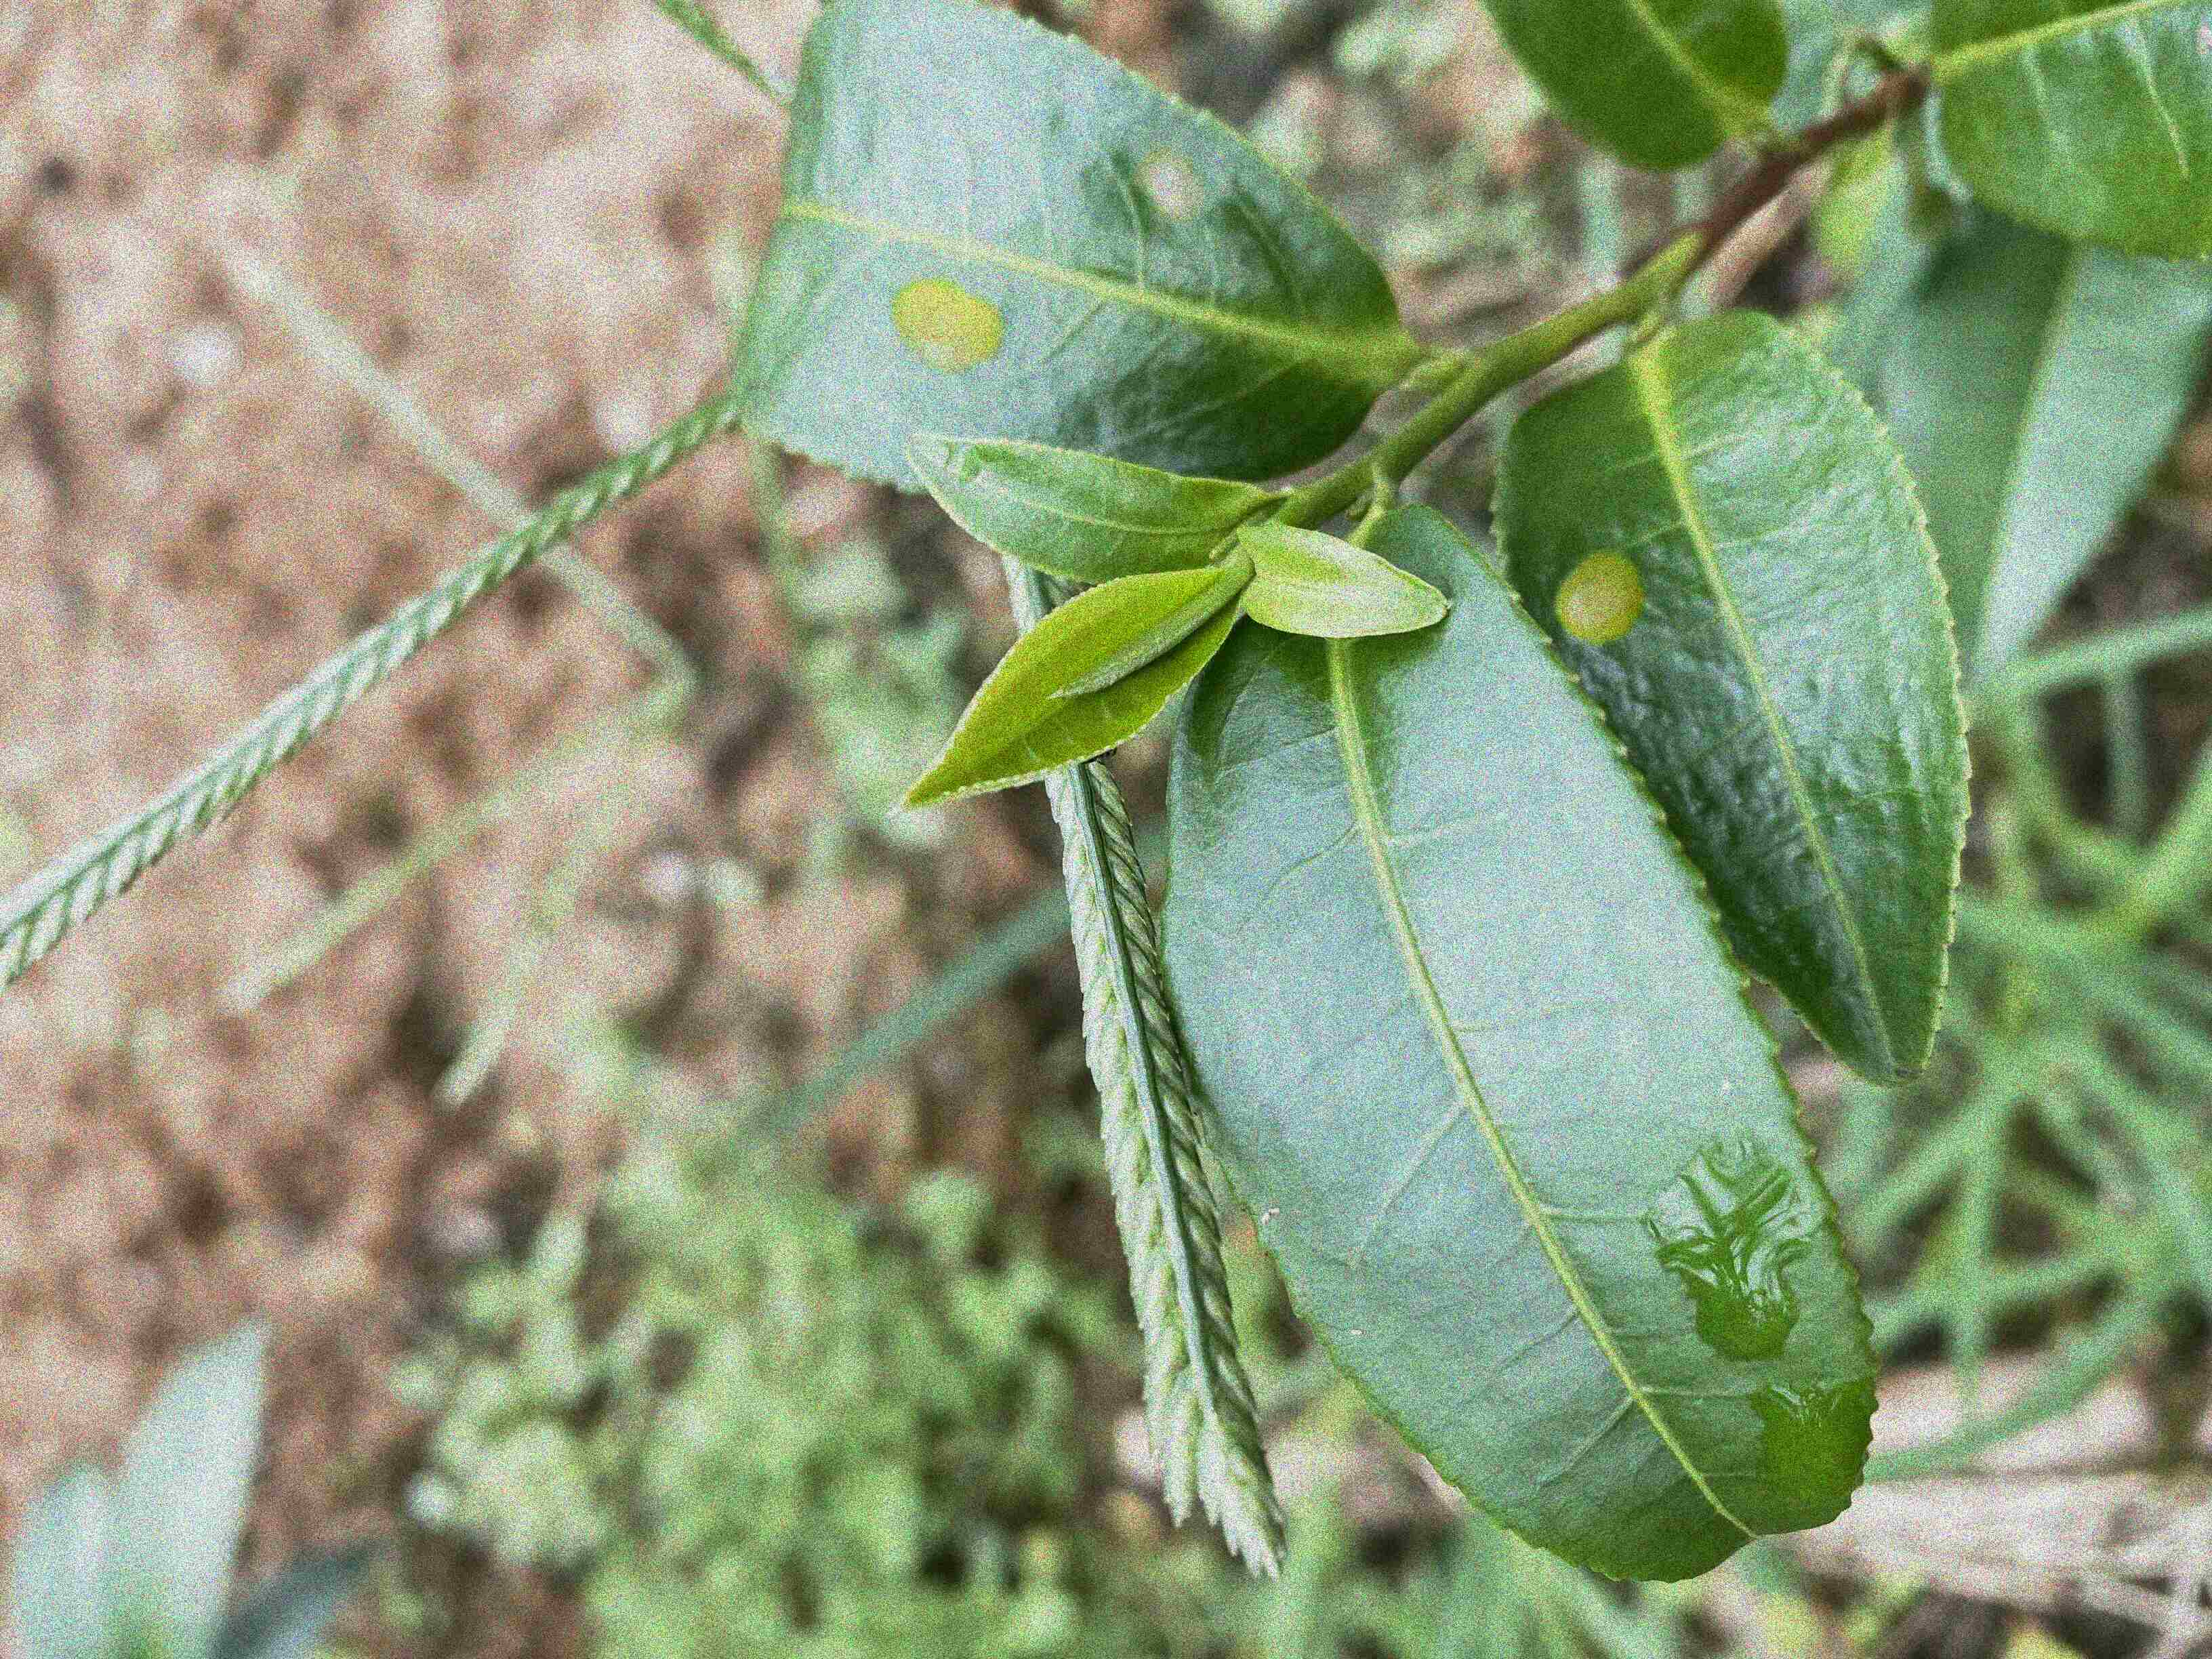chabing_high: (733, 0, 1406, 500)
chabing_low: (1487, 307, 1973, 1089)
healthy: (1162, 490, 1885, 1584), (888, 566, 1240, 816), (906, 429, 1268, 582), (1240, 523, 1444, 638)
